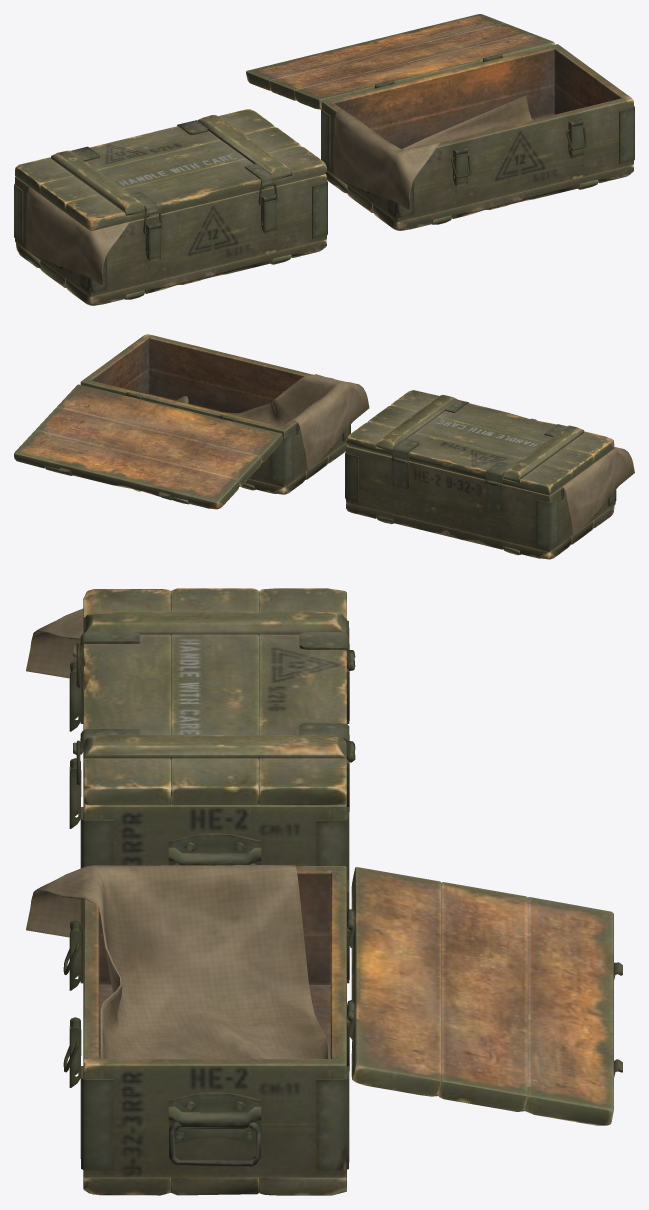
The model's file is old_military_crate.glb.
3 views of the same model, one above another, from view 1: azimuth 30°, elevation 25°; view 2: azimuth 150°, elevation 25°; view 3: azimuth 270°, elevation 25° (orthographic). The views are drawn at different scales.
Parts seen in each view (by area): view 1: old_military_crate_b, old_military_crate_lid_a, old_military_crate_a, old_military_crate_lid_b, old_military_crate_cloth_b, old_military_crate_cloth_a, old_military_crate_latch_a, old_military_crate_latch_b; view 2: old_military_crate_lid_b, old_military_crate_lid_a, old_military_crate_a, old_military_crate_b, old_military_crate_cloth_b, old_military_crate_cloth_a; view 3: old_military_crate_lid_a, old_military_crate_lid_b, old_military_crate_b, old_military_crate_cloth_b, old_military_crate_a, old_military_crate_cloth_a, old_military_crate_latch_b, old_military_crate_latch_a.
Boxes of the visible parts, box(x1,y1,x2,y2) form: old_military_crate_b: box(321, 44, 634, 230); old_military_crate_lid_a: box(15, 109, 326, 230); old_military_crate_a: box(14, 174, 327, 305); old_military_crate_lid_b: box(246, 14, 554, 109); old_military_crate_cloth_b: box(333, 95, 532, 209); old_military_crate_cloth_a: box(25, 187, 129, 284); old_military_crate_latch_a: box(145, 194, 276, 261); old_military_crate_latch_b: box(453, 119, 583, 186); old_military_crate_lid_b: box(14, 384, 282, 509); old_military_crate_lid_a: box(346, 390, 614, 495); old_military_crate_a: box(345, 446, 616, 559); old_military_crate_b: box(80, 334, 350, 494); old_military_crate_cloth_b: box(174, 374, 369, 470); old_military_crate_cloth_a: box(562, 447, 634, 535); old_military_crate_lid_a: box(73, 588, 355, 805); old_military_crate_lid_b: box(347, 867, 622, 1125); old_military_crate_b: box(80, 866, 354, 1195); old_military_crate_cloth_b: box(26, 865, 329, 1058); old_military_crate_a: box(80, 620, 355, 886); old_military_crate_cloth_a: box(26, 608, 83, 678); old_military_crate_latch_b: box(69, 920, 81, 1087); old_military_crate_latch_a: box(69, 661, 81, 828).
Size of the model in its own units: 1.82 by 0.3009 by 0.9744.
1 material, 1 textured.
